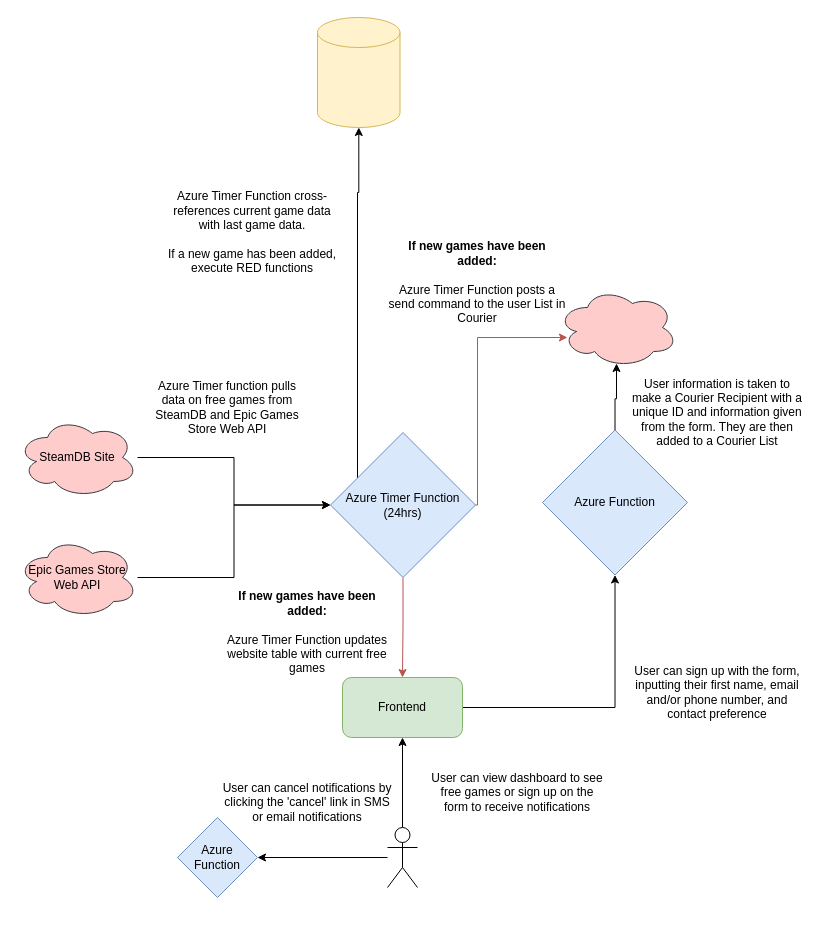
The diagram is 825 pixels wide and 926 high, and some of its shapes have lost their labels. Here are the shapes that lost their labels. From the top down, the box of each, then its label:
(316, 16, 400, 128): Database
(556, 286, 678, 368): Courier API
(386, 826, 418, 888): User
